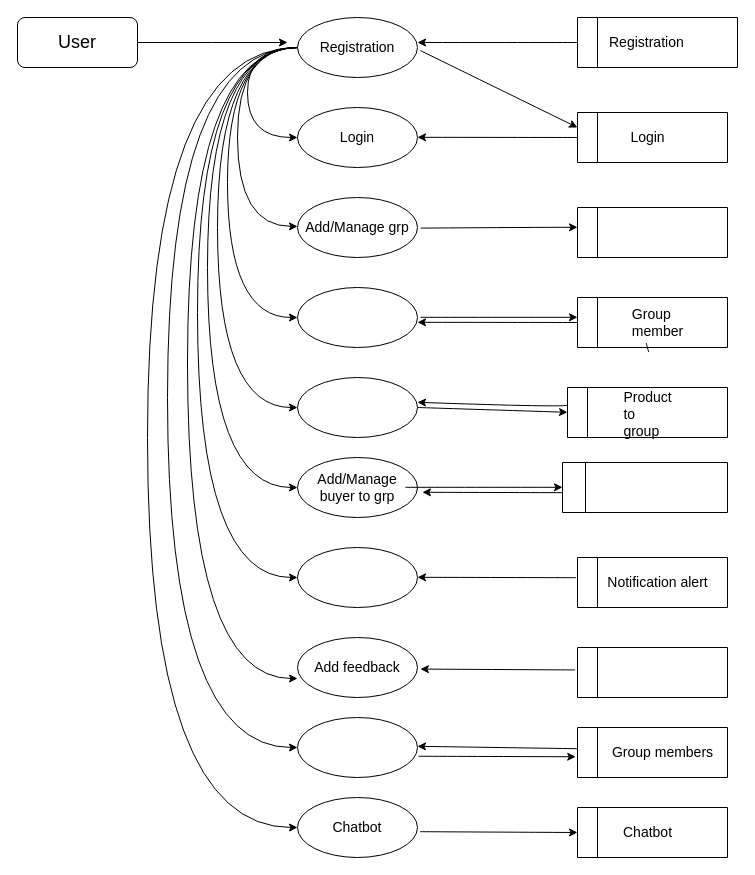
This 755x875 diagram has some shape labels left out. The shapes that lost their labels are listed below. From the top down, each one's centre as x and y in pixels, then its label:
At (652,232): "Group".
At (357,317): "Add/Manage grpmembers".
At (357,407): "Add product to the grp".
At (645,487): "Manage buyer to grp".
At (357,577): "View notification alert".
At (652,672): "Feedback".
At (357,747): "Chat with grp members".
